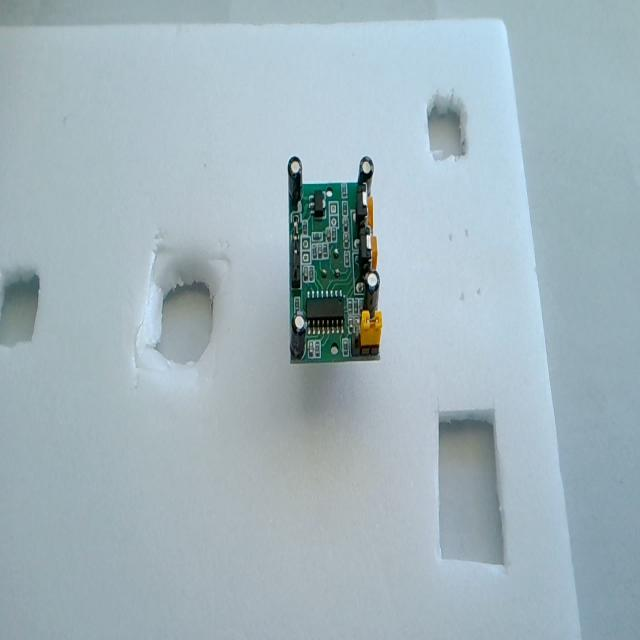Electrolytic capacitor: (365, 270, 385, 324), (290, 313, 312, 362), (286, 156, 304, 206)
IC: (302, 286, 350, 343)
